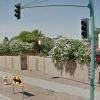Traffic light: (9, 0, 26, 26)
